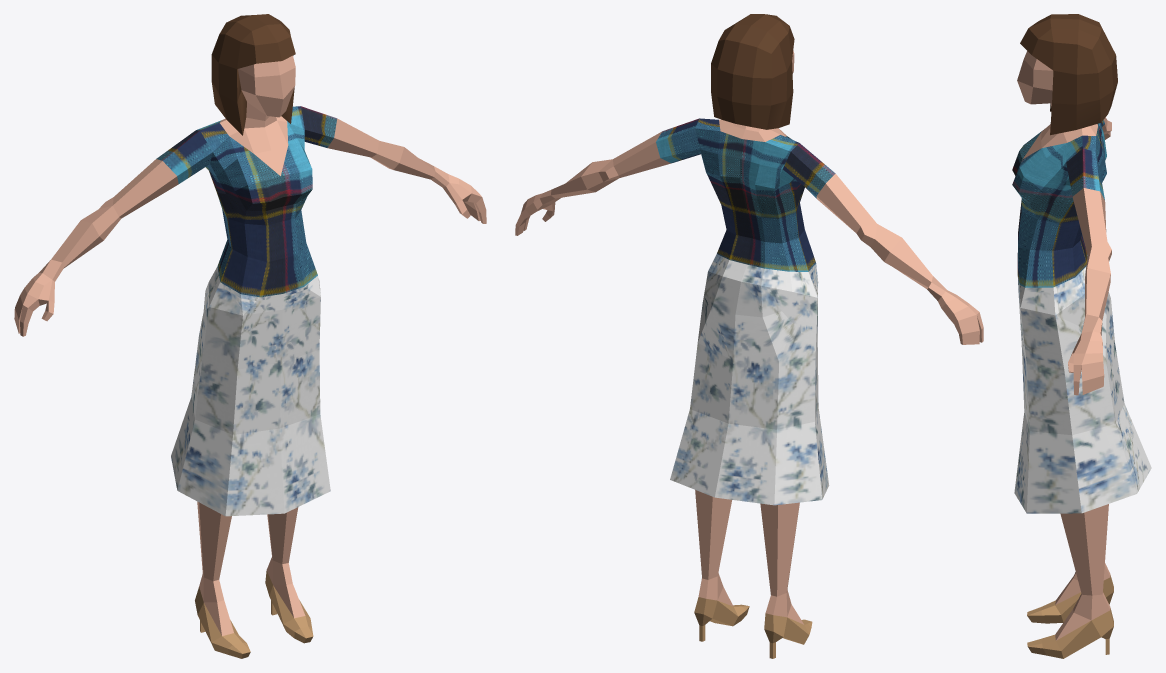
Rendered from Spring Woman C.fbx.
3 renders of one model, left to right at view 1: azimuth 30°, elevation 25°; view 2: azimuth 150°, elevation 25°; view 3: azimuth 270°, elevation 25°, orthographic.
Parts seen in each view (by area): view 1: Spring Woman C; view 2: Spring Woman C; view 3: Spring Woman C.
Part boxes in pixels (x1,y1,x2,y2): Spring Woman C: (14,14,486,658); Spring Woman C: (515,14,983,658); Spring Woman C: (1012,14,1151,658).
Size of the model in its own units: 138 by 176 by 35.99.
1 material, 1 textured.
